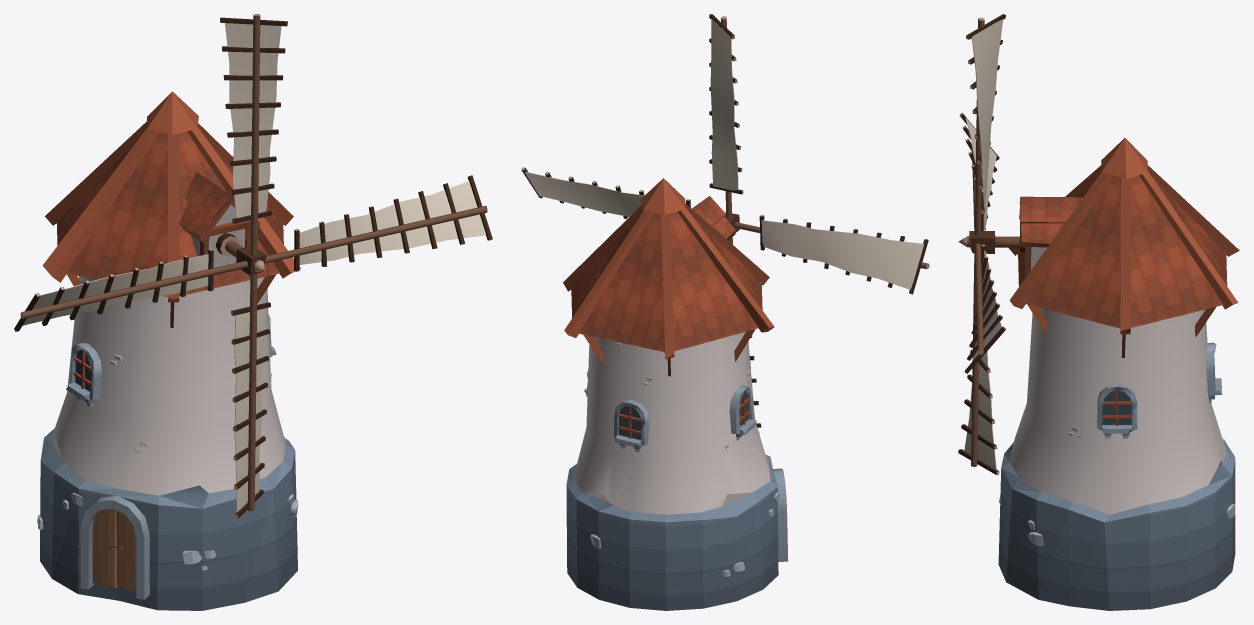
The model's file is Mill2.fbx.
3 views of the same model, side by side, from view 1: azimuth 30°, elevation 25°; view 2: azimuth 150°, elevation 25°; view 3: azimuth 270°, elevation 25° (orthographic). The views are drawn at different scales.
Parts seen in each view (by area): view 1: Mill-wind, Mill-paddle; view 2: Mill-wind, Mill-paddle; view 3: Mill-wind, Mill-paddle.
Boxes of the visible parts, x1=… form: Mill-wind: x1=37, y1=91, x2=300, y2=610; Mill-paddle: x1=14, y1=14, x2=492, y2=518; Mill-wind: x1=563, y1=178, x2=788, y2=610; Mill-paddle: x1=521, y1=14, x2=929, y2=427; Mill-wind: x1=998, y1=138, x2=1239, y2=610; Mill-paddle: x1=958, y1=14, x2=1019, y2=475.
Bounding box in the file's own units: 1261 × 1533 × 712.
